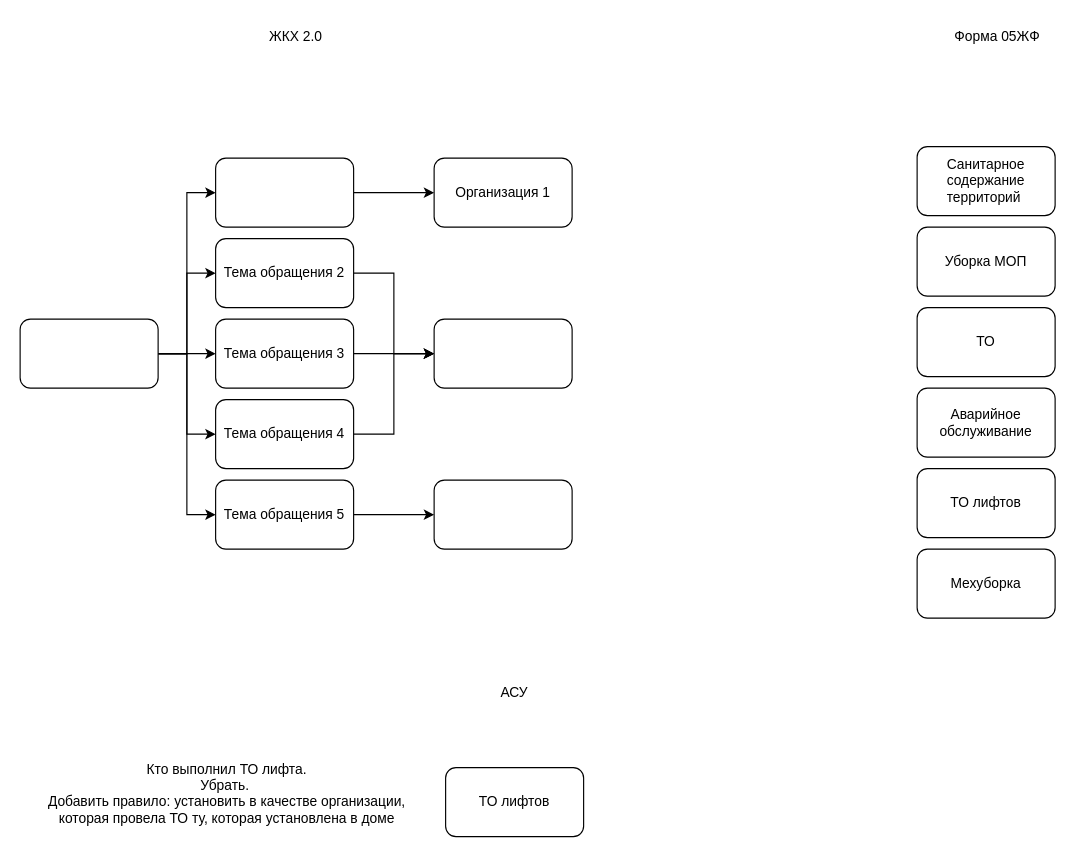
This 1087x863 diagram has some shape labels left out. Each missing label, with the centre of its shape:
"Вид обслуживания" belongs at pixel 88 353.
"Организация 2" belongs at pixel 502 353.
"Организация 3" belongs at pixel 502 514.
"Тема обращения 1" belongs at pixel 284 192.
